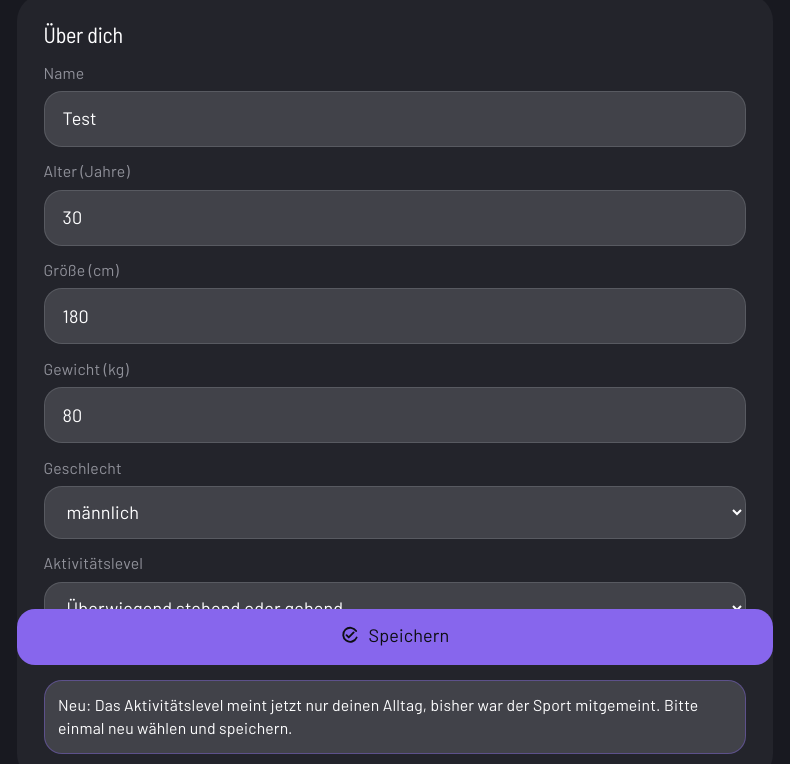
Test case: ProfilePage › rejects an implausible age instead of storing it
The width and height of the screenshot is (790, 764).
Replace the text in the number field labelled "Alter (Jahre)" with "3": (394, 218) left=44, top=190, right=746, bottom=246
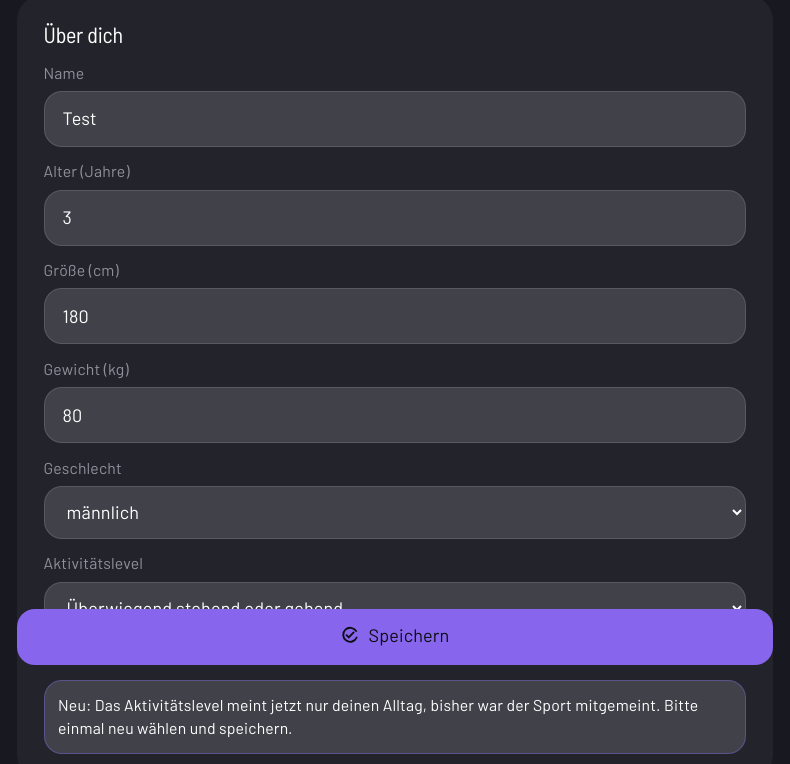
Click the button "Speichern": (394, 637) left=16, top=609, right=772, bottom=665
(page scrolled)
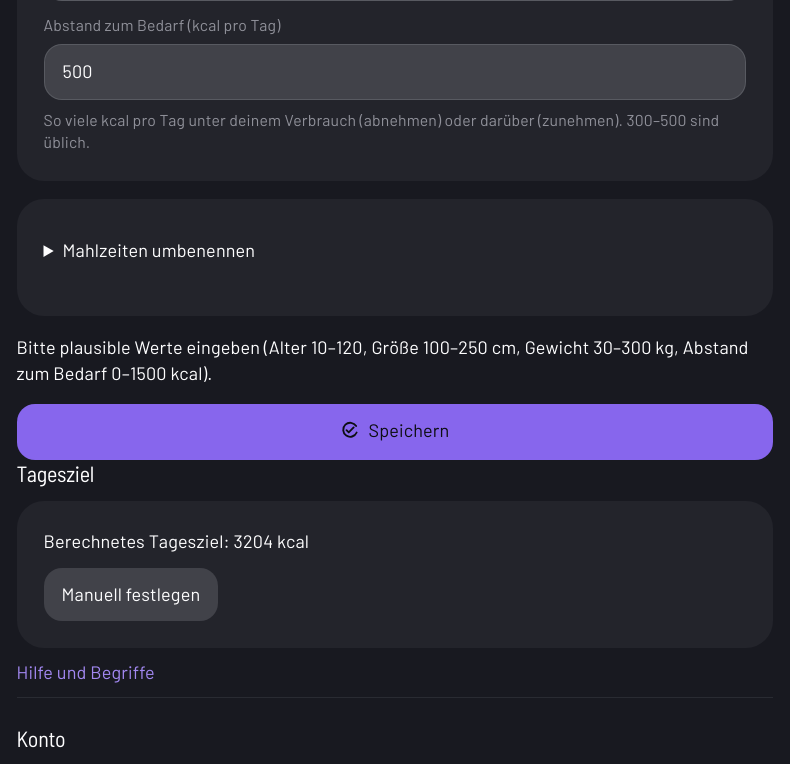
Expected: the message shows "plausible Werte", left=16, top=336, right=311, bottom=358
